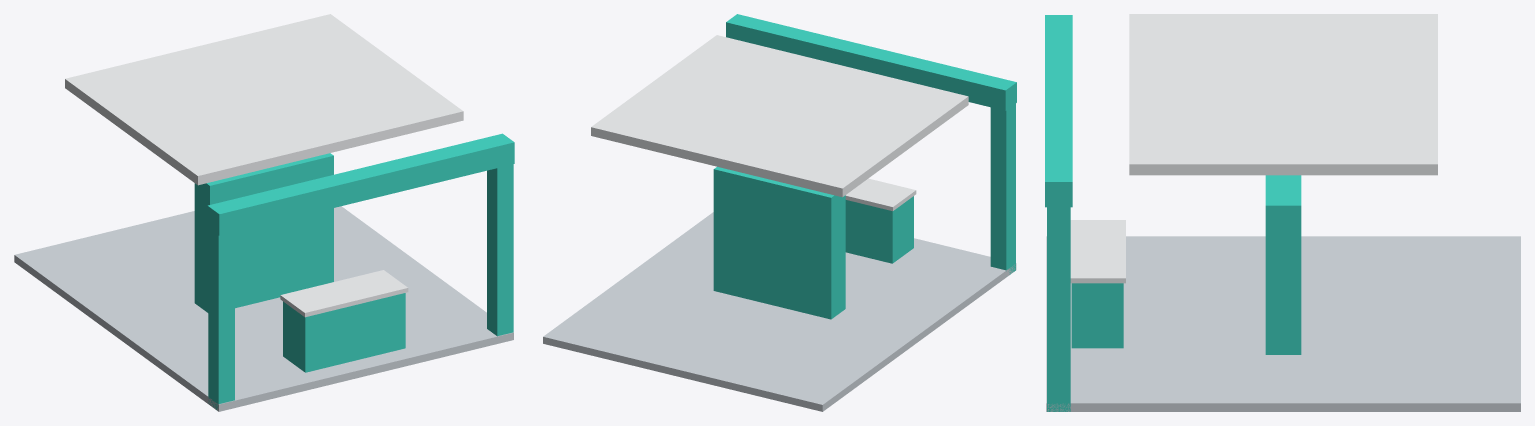
3 views of the same model, side by side, from view 1: azimuth 30°, elevation 25°; view 2: azimuth 150°, elevation 25°; view 3: azimuth 270°, elevation 25° (orthographic). The views are drawn at different scales.
Visible parts, largest first — view 1: Exhibition Booth Concept; view 2: Exhibition Booth Concept; view 3: Exhibition Booth Concept.
Part boxes in pixels (x1,y1,x2,y2): Exhibition Booth Concept: [14, 14, 514, 411]; Exhibition Booth Concept: [543, 14, 1016, 411]; Exhibition Booth Concept: [1045, 14, 1520, 411].
Bounding box in the file's own units: 5 × 3.34 × 6.02.
